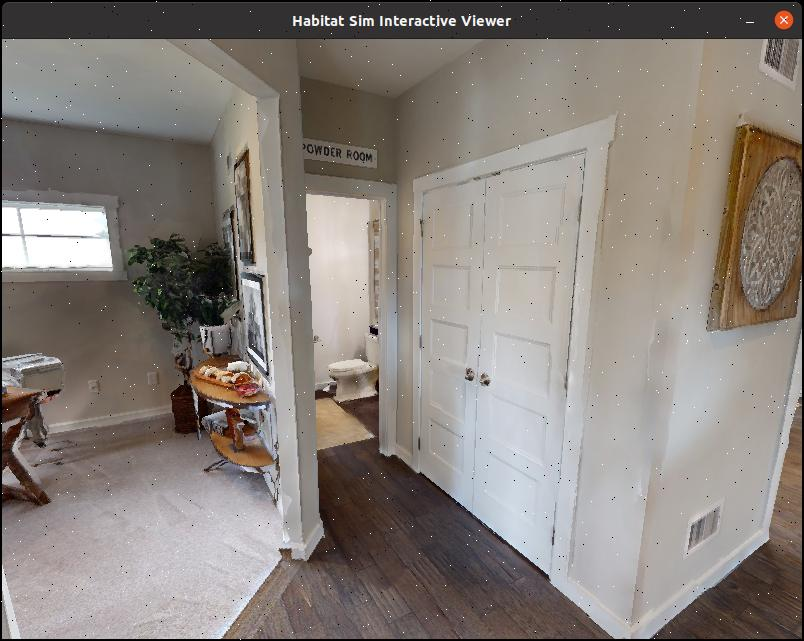door: (466, 173, 592, 574), (404, 163, 502, 520)
door-frame: (307, 190, 406, 463)
toilet: (324, 327, 385, 405)
